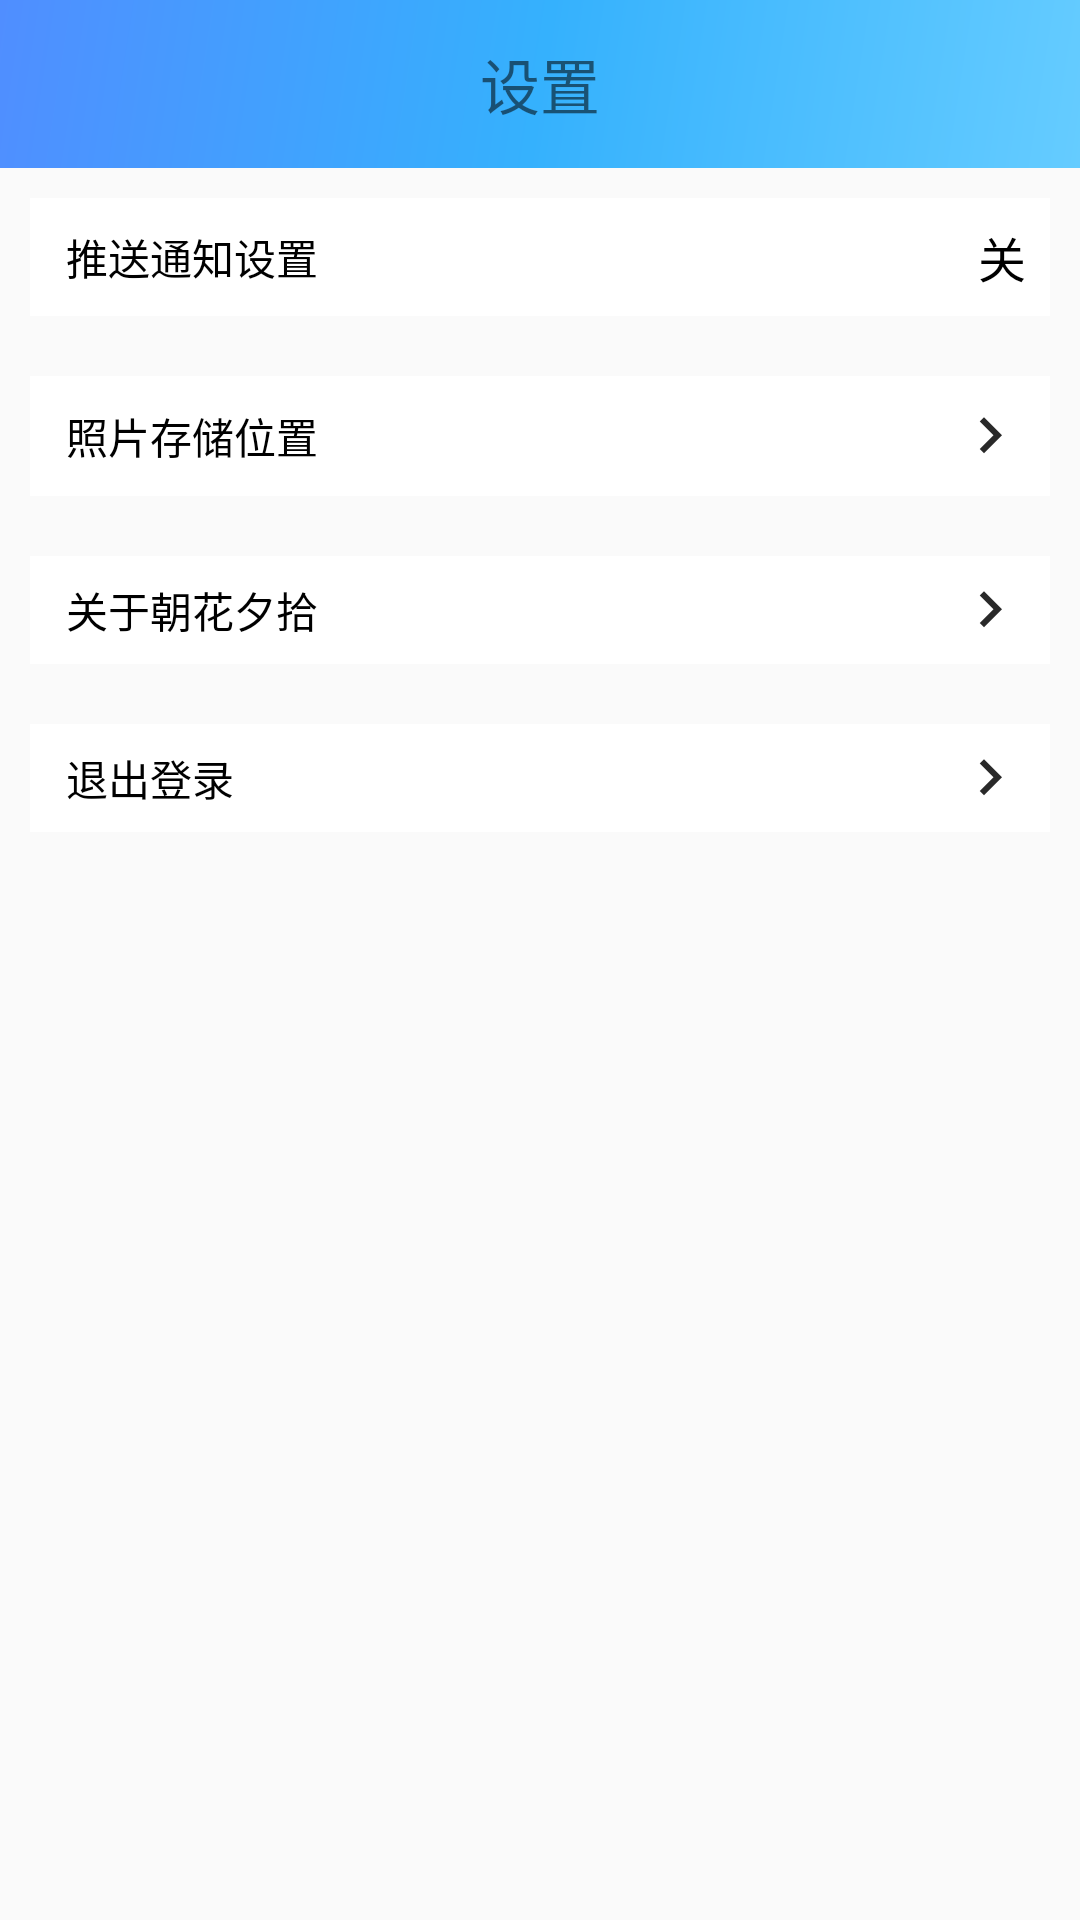

Screen size 1080 × 1920. Icon name, then its box in pixels as {"x1": x1, "y1": y1, "x2": x2, "y2": y2}:
keyboard arrow right: {"x1": 980, "y1": 417, "x2": 1002, "y2": 453}, {"x1": 980, "y1": 591, "x2": 1002, "y2": 627}, {"x1": 980, "y1": 759, "x2": 1002, "y2": 795}
